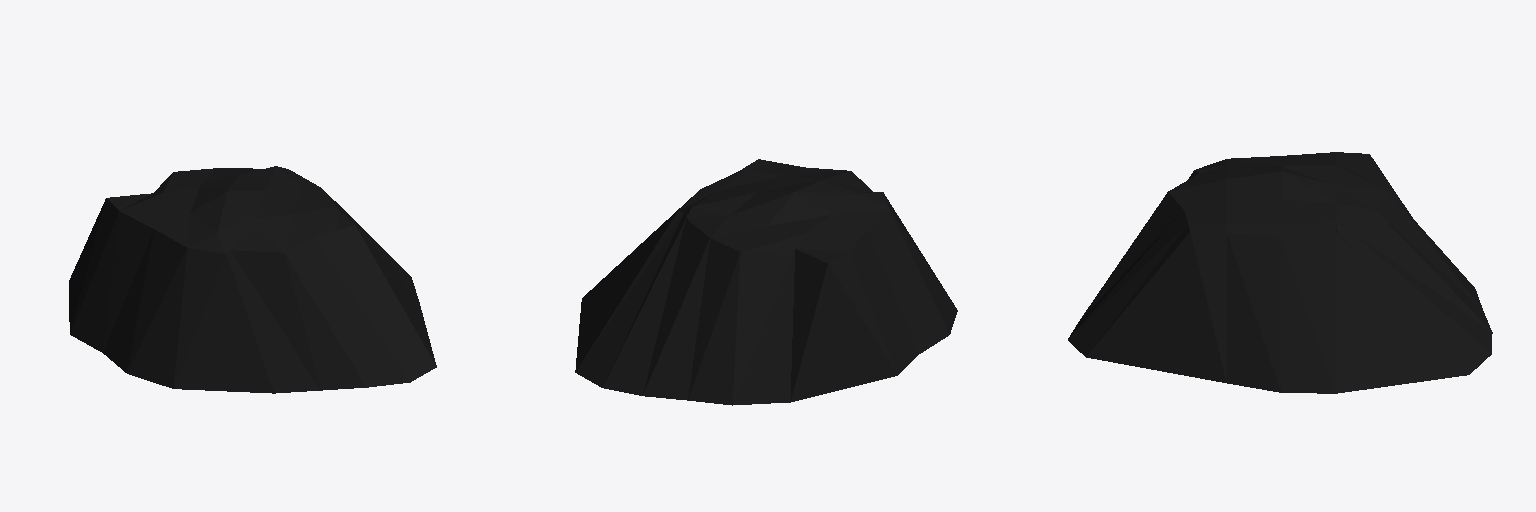
File: rock.obj
3 views of the same model, side by side, from view 1: azimuth 30°, elevation 25°; view 2: azimuth 150°, elevation 25°; view 3: azimuth 270°, elevation 25° (orthographic).
Parts seen in each view (by area): view 1: Cube_Cube.001; view 2: Cube_Cube.001; view 3: Cube_Cube.001.
Boxes of the visible parts, x1=… form: Cube_Cube.001: x1=69, y1=166, x2=436, y2=393; Cube_Cube.001: x1=575, y1=159, x2=957, y2=405; Cube_Cube.001: x1=1068, y1=152, x2=1492, y2=393.
Bounding box in the file's own units: 3.35 × 1.44 × 3.9.